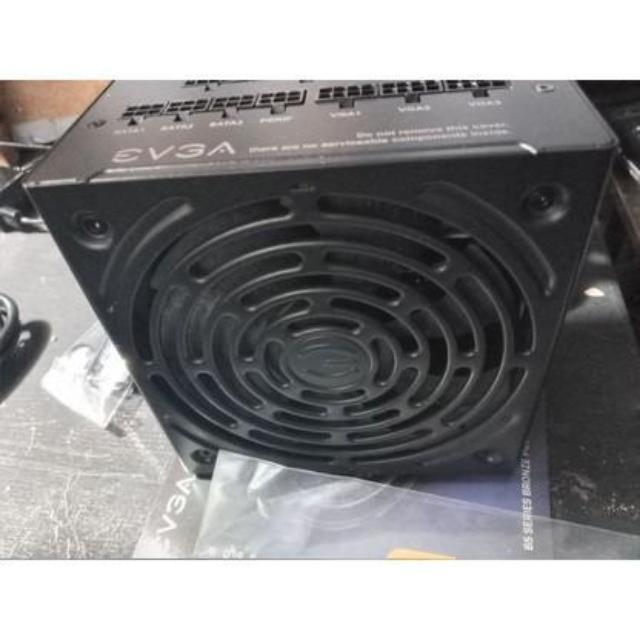PSU: (6, 82, 620, 504)
